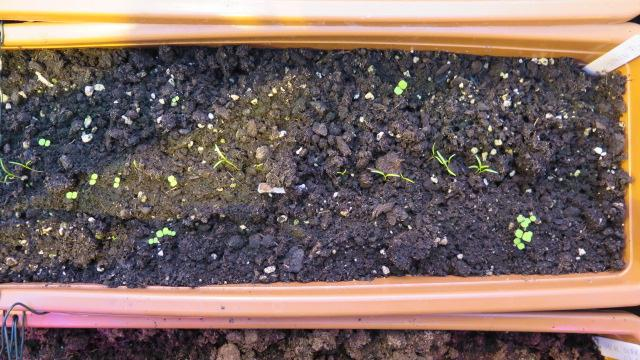weed: (390, 78, 408, 95), (86, 170, 100, 186), (59, 188, 79, 199), (32, 135, 52, 146), (164, 172, 178, 187), (110, 173, 121, 189)
